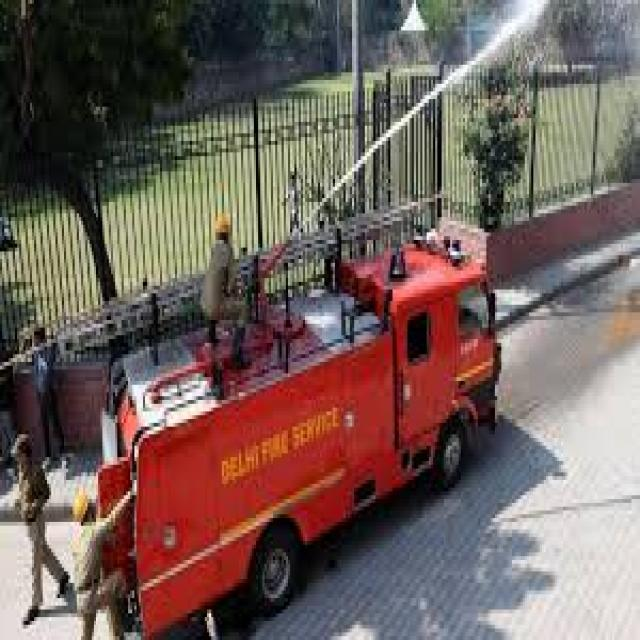Fire_brigade: (79, 175, 508, 636)
